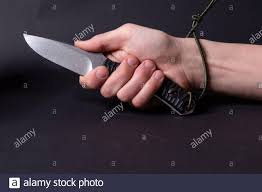knife: (19, 28, 196, 122)
